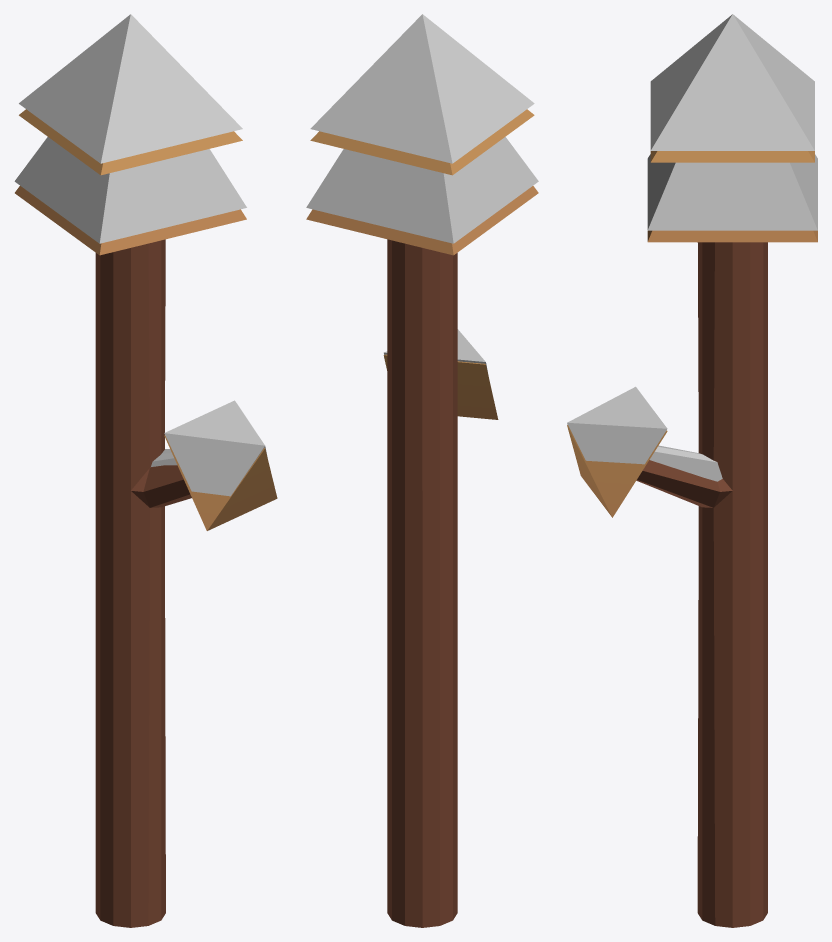
File: Tree_25_winter_gradient_yellow_vc.fbx
3 renders of one model, left to right at view 1: azimuth 30°, elevation 25°; view 2: azimuth 150°, elevation 25°; view 3: azimuth 270°, elevation 25°, orthographic.
Visible parts, largest first — view 1: Tree_25_winter_gradient_yellow_vc; view 2: Tree_25_winter_gradient_yellow_vc; view 3: Tree_25_winter_gradient_yellow_vc.
Part boxes in pixels (box(x1,y1,x2,y2)): Tree_25_winter_gradient_yellow_vc: box(14, 14, 277, 927); Tree_25_winter_gradient_yellow_vc: box(306, 14, 538, 927); Tree_25_winter_gradient_yellow_vc: box(567, 14, 817, 927).
Size of the model in its own units: 58.32 by 312 by 79.03.
